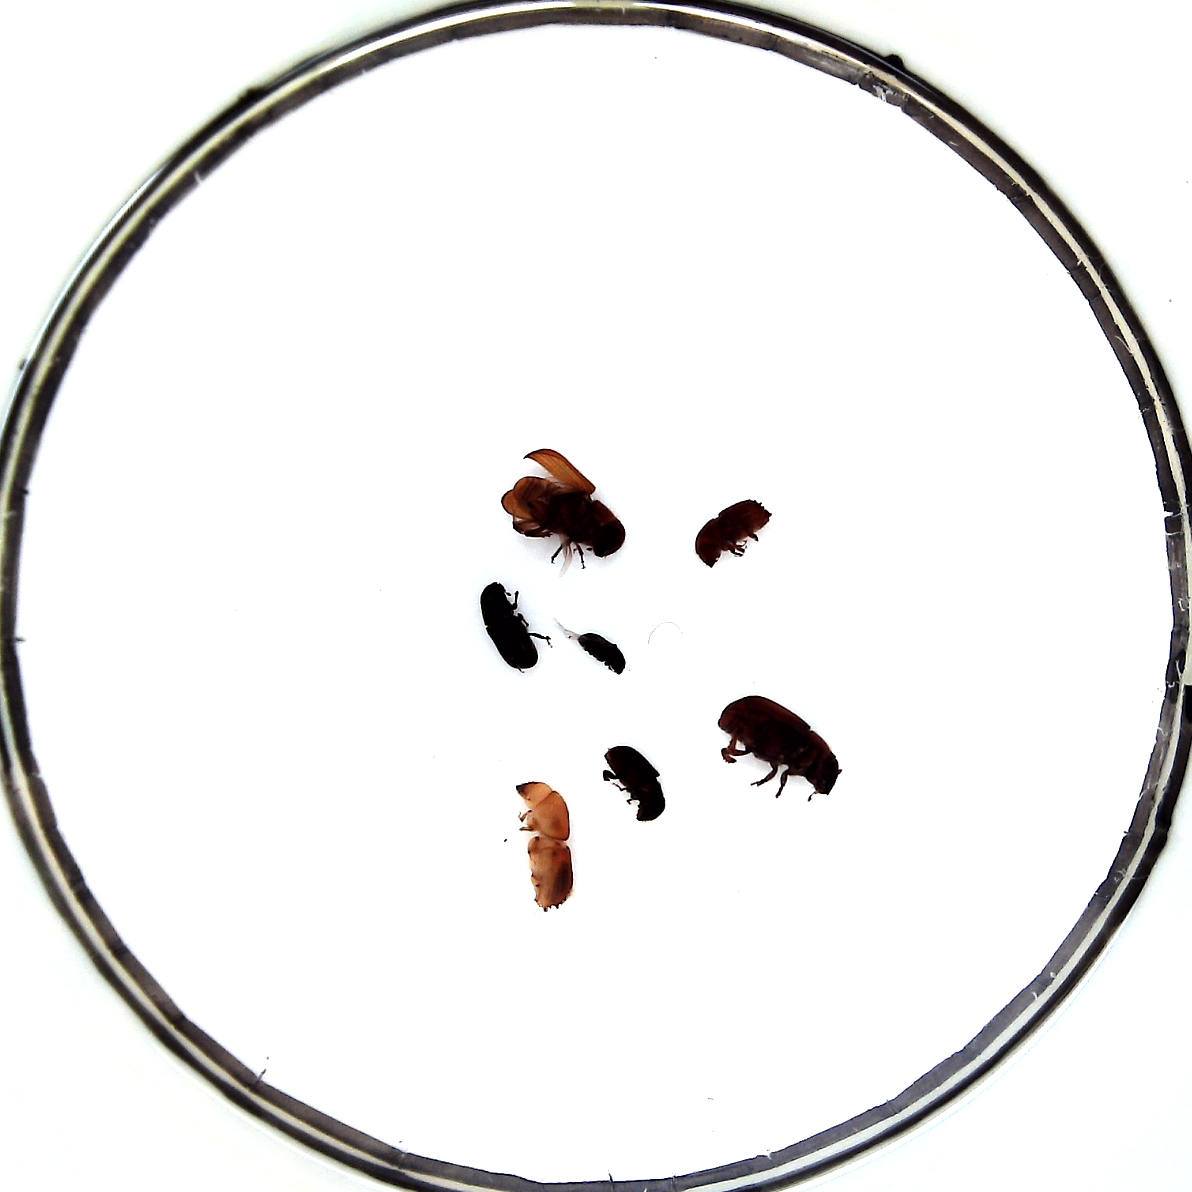Boerner: (515, 780, 575, 913)
Leconte: (501, 448, 625, 558), (717, 694, 838, 795)
armandi: (481, 582, 538, 668), (604, 744, 666, 821)
coleoptera: (577, 633, 625, 675)
linnaeus: (695, 499, 772, 569)
